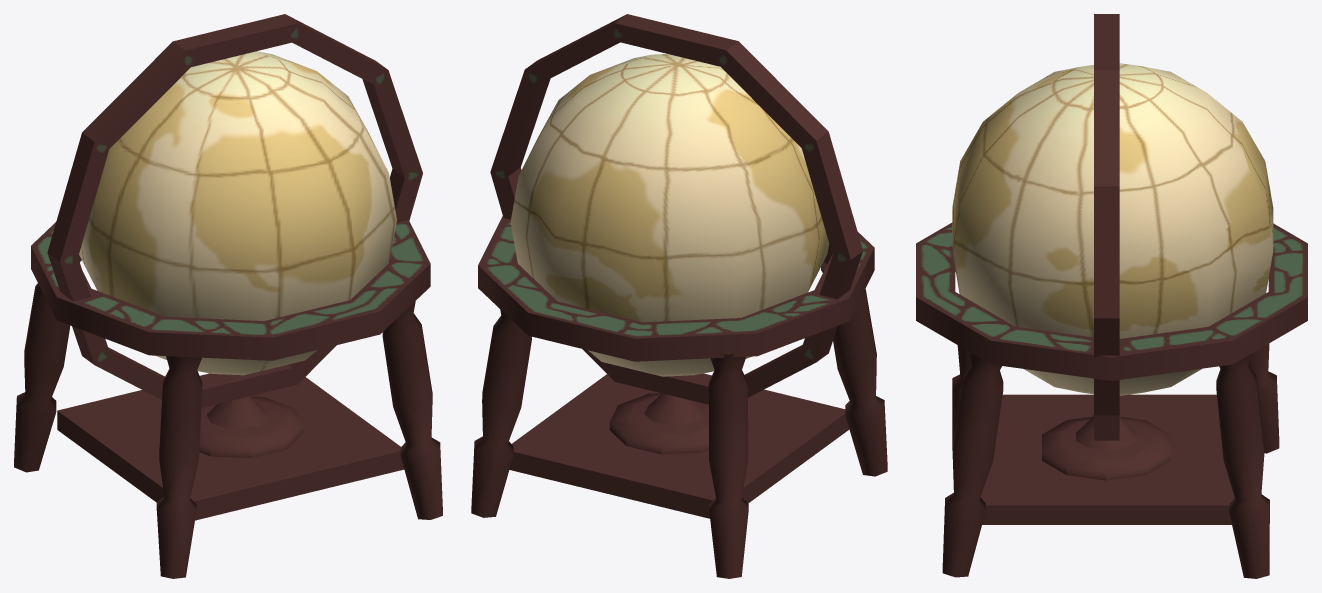
File: globe_mesh.fbx
3 renders of one model, left to right at view 1: azimuth 30°, elevation 25°; view 2: azimuth 150°, elevation 25°; view 3: azimuth 270°, elevation 25°, orthographic. The views are drawn at different scales.
Parts seen in each view (by area): view 1: polySurface147; view 2: polySurface147; view 3: polySurface147.
Part boxes in pixels (x1,y1,x2,y2): polySurface147: (14,14,442,578); polySurface147: (471,14,887,578); polySurface147: (916,14,1307,578).
Bounding box in the file's own units: 75.18 × 91.34 × 68.51.
